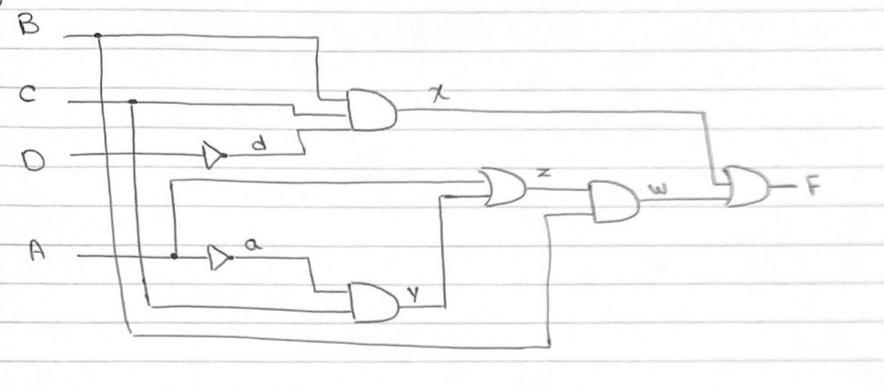AND: (341, 79, 406, 141), (340, 275, 406, 336), (579, 175, 646, 232)
NOT: (200, 236, 240, 278), (196, 133, 233, 175)
OR: (472, 160, 531, 216), (719, 157, 776, 214)
